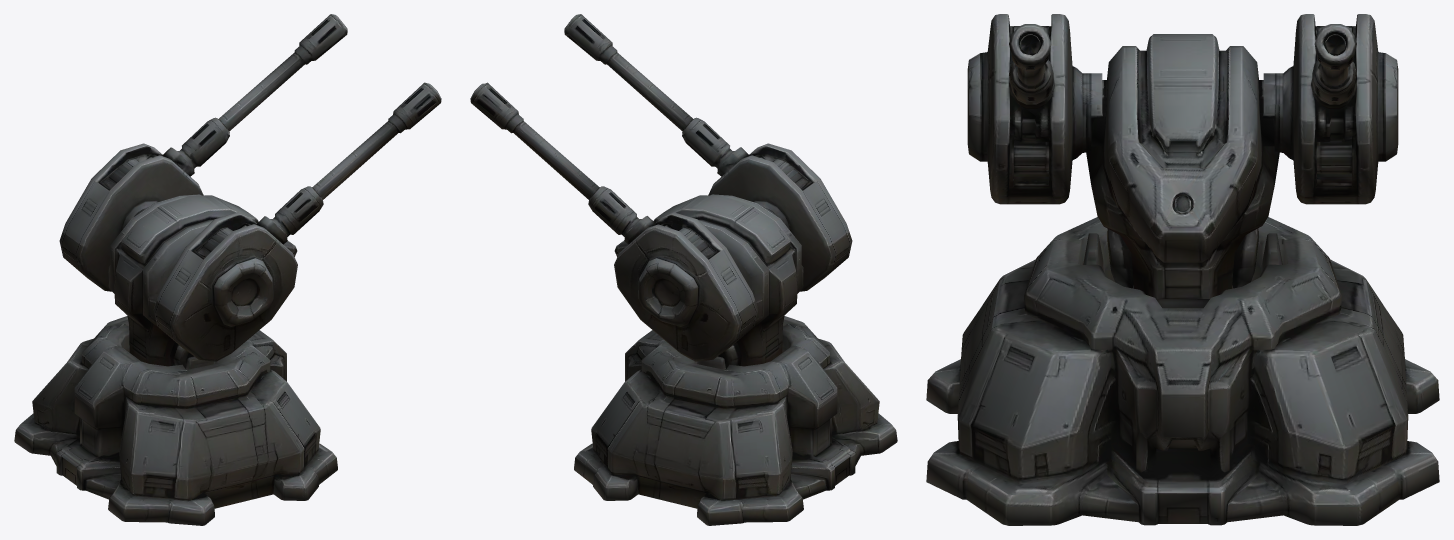
The model's file is arena-turret-v1.glb.
3 views of the same model, side by side, from view 1: azimuth 30°, elevation 25°; view 2: azimuth 150°, elevation 25°; view 3: azimuth 270°, elevation 25° (orthographic). The views are drawn at different scales.
Visible parts, largest first — view 1: arena-turret-v1; view 2: arena-turret-v1; view 3: arena-turret-v1.
Part boxes in pixels (bbox=[...]): arena-turret-v1: bbox=[14, 14, 441, 525]; arena-turret-v1: bbox=[470, 14, 897, 525]; arena-turret-v1: bbox=[926, 14, 1439, 525].
Bounding box in the file's own units: 3.24 × 3.4 × 2.73.
1 material, 1 textured.
